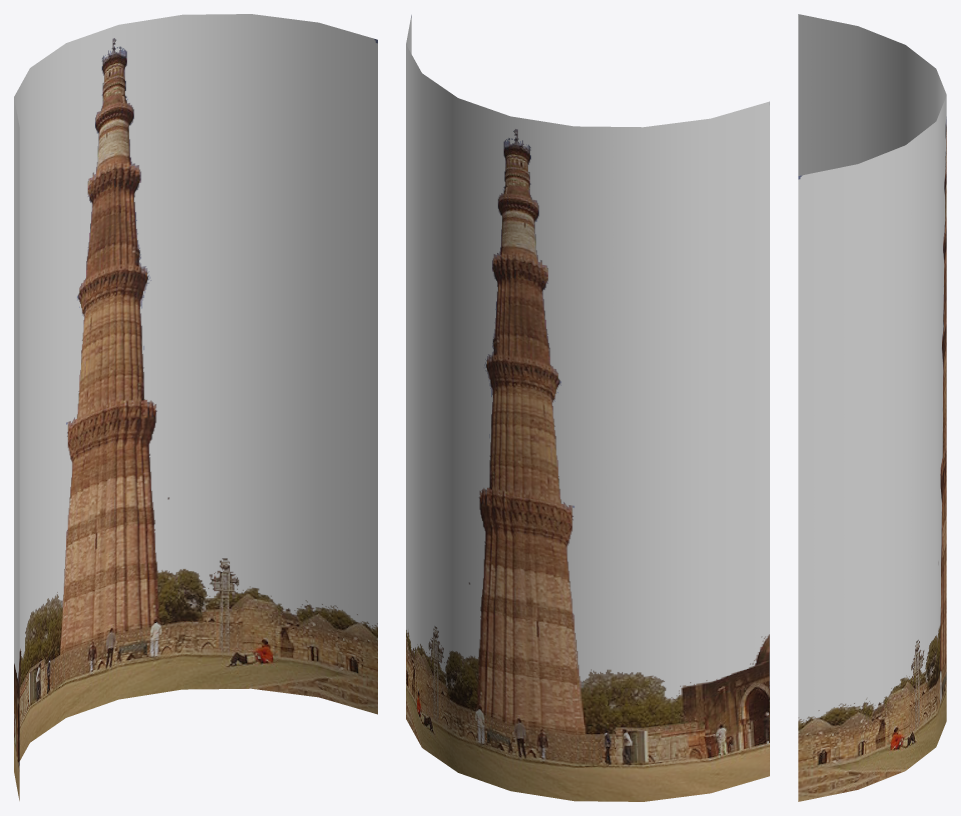
The model's file is kutubmenar.fbx.
3 renders of one model, left to right at view 1: azimuth 30°, elevation 25°; view 2: azimuth 150°, elevation 25°; view 3: azimuth 270°, elevation 25°, orthographic. The views are drawn at different scales.
Visible parts, largest first — view 1: pCylinder7; view 2: pCylinder7; view 3: pCylinder7.
Part boxes in pixels (x1=…): pCylinder7: x1=14, y1=14, x2=377, y2=800; pCylinder7: x1=406, y1=15, x2=769, y2=801; pCylinder7: x1=798, y1=14, x2=946, y2=801.
Bounding box in the file's own units: 155 × 278 × 59.91.
